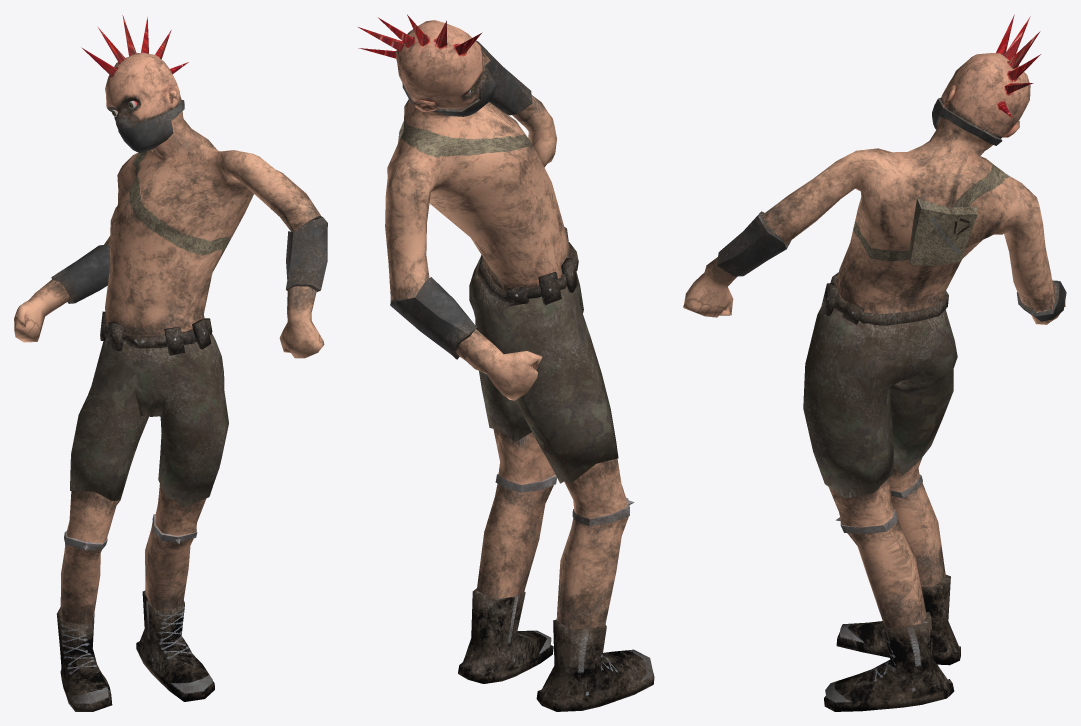
Rendered from Anim_recibirdanyo_1_npc2.0018.obj.
3 renders of one model, left to right at view 1: azimuth 30°, elevation 25°; view 2: azimuth 150°, elevation 25°; view 3: azimuth 270°, elevation 25°, orthographic. The views are drawn at different scales.
Parts seen in each view (by area): view 1: polySurface1; view 2: polySurface1; view 3: polySurface1.
Part boxes in pixels (x1=…): polySurface1: x1=14, y1=15, x2=327, y2=711; polySurface1: x1=358, y1=14, x2=654, y2=711; polySurface1: x1=683, y1=14, x2=1066, y2=711.
Size of the model in its own units: 3.46 by 9.45 by 4.79.
Materials: 2 (2 with a texture image).
